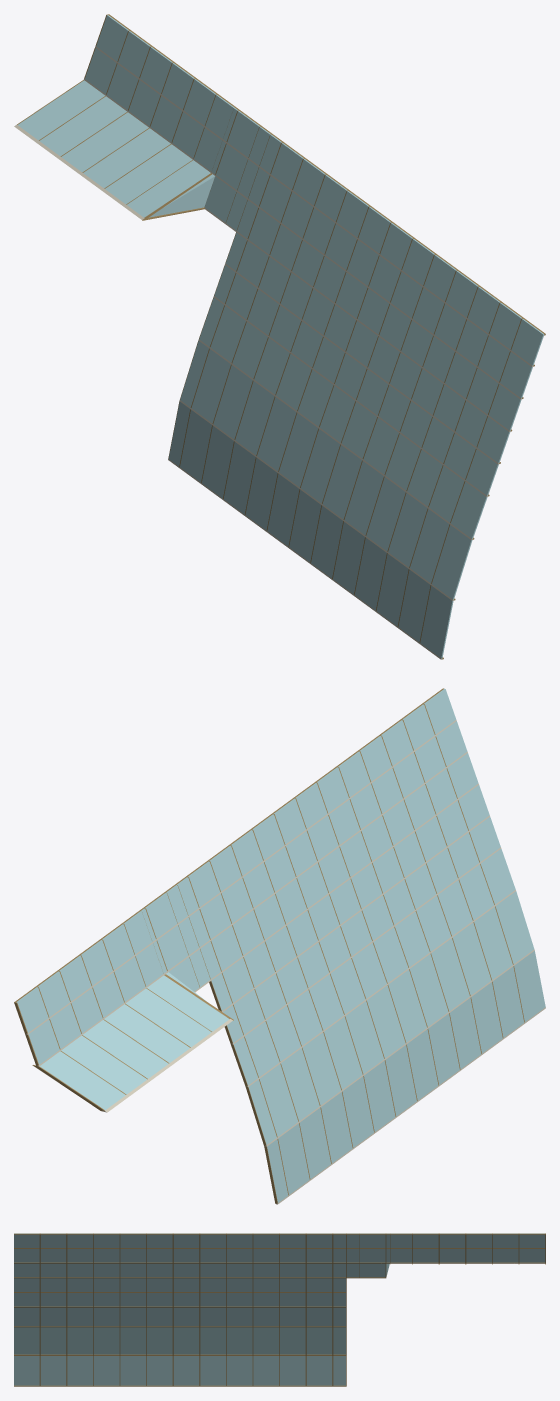
The model's file is G7_Completion_Body_-1_03.glb.
3 views of the same model, one above another, from view 1: azimuth 30°, elevation 25°; view 2: azimuth 150°, elevation 25°; view 3: azimuth 270°, elevation 25° (orthographic). The views are drawn at different scales.
Visible parts, largest first — view 1: Body_-1_03_G7C3_glass_solid_skin, Body_-1_03_G7C3_metal_solid_skin, Body_-1_03_G7C3_shell_solid_skin, Body_-1_03_G7C3_metal_solid_frame; view 2: Body_-1_03_G7C3_glass_solid_skin, Body_-1_03_G7C3_metal_solid_skin, Body_-1_03_G7C3_shell_solid_skin, Body_-1_03_G7C3_metal_solid_frame; view 3: Body_-1_03_G7C3_glass_solid_skin, Body_-1_03_G7C3_metal_solid_frame.
Part boxes in pixels (left/top/right/bottom): Body_-1_03_G7C3_glass_solid_skin: left=18, top=15, right=544, bottom=658; Body_-1_03_G7C3_metal_solid_skin: left=17, top=14, right=522, bottom=642; Body_-1_03_G7C3_shell_solid_skin: left=14, top=46, right=533, bottom=659; Body_-1_03_G7C3_metal_solid_frame: left=108, top=14, right=545, bottom=659; Body_-1_03_G7C3_glass_solid_skin: left=16, top=688, right=545, bottom=1202; Body_-1_03_G7C3_metal_solid_skin: left=15, top=704, right=524, bottom=1203; Body_-1_03_G7C3_shell_solid_skin: left=26, top=720, right=545, bottom=1204; Body_-1_03_G7C3_metal_solid_frame: left=14, top=688, right=443, bottom=1204; Body_-1_03_G7C3_glass_solid_skin: left=14, top=1233, right=545, bottom=1385; Body_-1_03_G7C3_metal_solid_frame: left=14, top=1233, right=545, bottom=1386.
Bounding box in the file's own units: 16.63 × 45.5 × 120.
3 materials, 2 textured.
